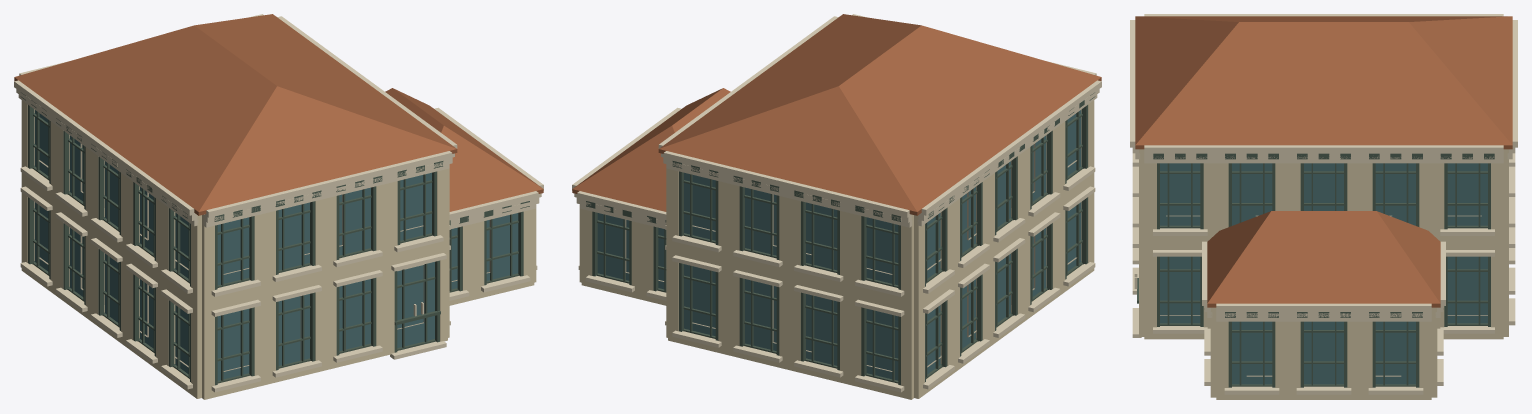
The model's file is terracotta-villa.glb.
3 views of the same model, side by side, from view 1: azimuth 30°, elevation 25°; view 2: azimuth 150°, elevation 25°; view 3: azimuth 270°, elevation 25° (orthographic). The views are drawn at different scales.
Parts seen in each view (by area): view 1: Roof main.003, Roof wing.001, main/north/0/1250/wall.002, main/north/0/3750/wall.002, main/north/0/6250/wall.002, main/north/0/8750/glass.002, main/north/1/1250/wall.001, main/west/0/9000/wall.002, wing/north/0/7500/wall.001, main/north/1/3750/wall.001, main/north/1/6250/wall.001, main/north/1/8750/wall.001 (+74 smaller); view 2: Roof main.003, Roof wing.001, main/south/0/1250/wall.002, main/south/0/3750/wall.002, main/south/0/6250/wall.002, main/south/0/8750/wall.002, main/south/1/1250/wall.001, main/west/0/1000/wall.002, wing/south/0/7500/wall.001, main/south/1/3750/wall.001, main/south/1/6250/wall.001, main/south/1/8750/wall.001 (+74 smaller); view 3: Roof main.003, Roof wing.001, main/east/0/1000/glass.002, main/east/0/9000/glass.002, wing/east/0/1667/glass.001, wing/east/0/8333/glass.001, main/east/1/1000/wall.002, main/east/1/9000/wall.002, main/east/1/1000/glass.002, main/east/1/9000/glass.002, wing/east/0/1667/wall.001, wing/east/0/5000/wall.001 (+42 smaller).
Part boxes in pixels (x1=…): Roof main.003: x1=14, y1=14, x2=457, y2=215; Roof wing.001: x1=385, y1=88, x2=543, y2=211; main/north/0/1250/wall.002: x1=202, y1=290, x2=265, y2=399; main/north/0/3750/wall.002: x1=265, y1=275, x2=326, y2=384; main/north/0/6250/wall.002: x1=326, y1=260, x2=386, y2=369; main/north/0/8750/glass.002: x1=397, y1=262, x2=434, y2=347; main/north/1/1250/wall.001: x1=202, y1=213, x2=265, y2=304; main/west/0/9000/wall.002: x1=162, y1=278, x2=201, y2=398; wing/north/0/7500/wall.001: x1=473, y1=209, x2=534, y2=299; main/north/1/3750/wall.001: x1=265, y1=198, x2=326, y2=289; main/north/1/6250/wall.001: x1=326, y1=183, x2=386, y2=274; main/north/1/8750/wall.001: x1=387, y1=169, x2=447, y2=259; Roof main.003: x1=658, y1=14, x2=1101, y2=215; Roof wing.001: x1=572, y1=88, x2=730, y2=211; main/south/0/1250/wall.002: x1=850, y1=290, x2=913, y2=399; main/south/0/3750/wall.002: x1=789, y1=275, x2=850, y2=384; main/south/0/6250/wall.002: x1=729, y1=260, x2=789, y2=369; main/south/0/8750/wall.002: x1=668, y1=245, x2=728, y2=355; main/south/1/1250/wall.001: x1=850, y1=213, x2=913, y2=304; main/west/0/1000/wall.002: x1=914, y1=278, x2=953, y2=398; wing/south/0/7500/wall.001: x1=581, y1=209, x2=642, y2=299; main/south/1/3750/wall.001: x1=789, y1=198, x2=850, y2=289; main/south/1/6250/wall.001: x1=729, y1=183, x2=789, y2=274; main/south/1/8750/wall.001: x1=668, y1=169, x2=728, y2=259; Roof main.003: x1=1135, y1=16, x2=1512, y2=149; Roof wing.001: x1=1207, y1=211, x2=1440, y2=307; main/east/0/1000/glass.002: x1=1447, y1=256, x2=1487, y2=323; main/east/0/9000/glass.002: x1=1160, y1=256, x2=1200, y2=323; wing/east/0/1667/glass.001: x1=1375, y1=321, x2=1415, y2=384; wing/east/0/8333/glass.001: x1=1232, y1=321, x2=1272, y2=384; main/east/1/1000/wall.002: x1=1431, y1=163, x2=1503, y2=241; main/east/1/9000/wall.002: x1=1144, y1=163, x2=1216, y2=241; main/east/1/1000/glass.002: x1=1447, y1=163, x2=1487, y2=225; main/east/1/9000/glass.002: x1=1160, y1=163, x2=1200, y2=225; wing/east/0/1667/wall.001: x1=1360, y1=321, x2=1431, y2=399; wing/east/0/5000/wall.001: x1=1288, y1=321, x2=1359, y2=399.
Bounding box in the file's own units: 12.79 × 7.9 × 10.79.
